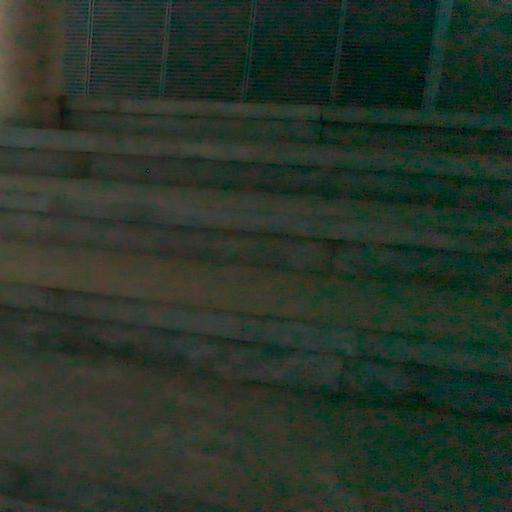stairs: (0, 100, 511, 415)
